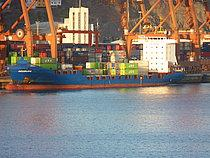Ship: (9, 49, 182, 94)
